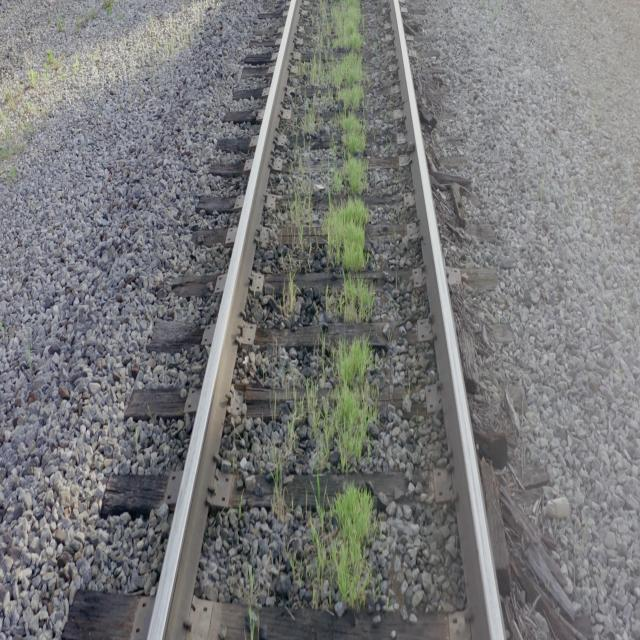Plant: (300, 0, 375, 322), (291, 338, 376, 473), (310, 484, 374, 609), (331, 484, 374, 609), (290, 178, 311, 249), (285, 276, 296, 302)
